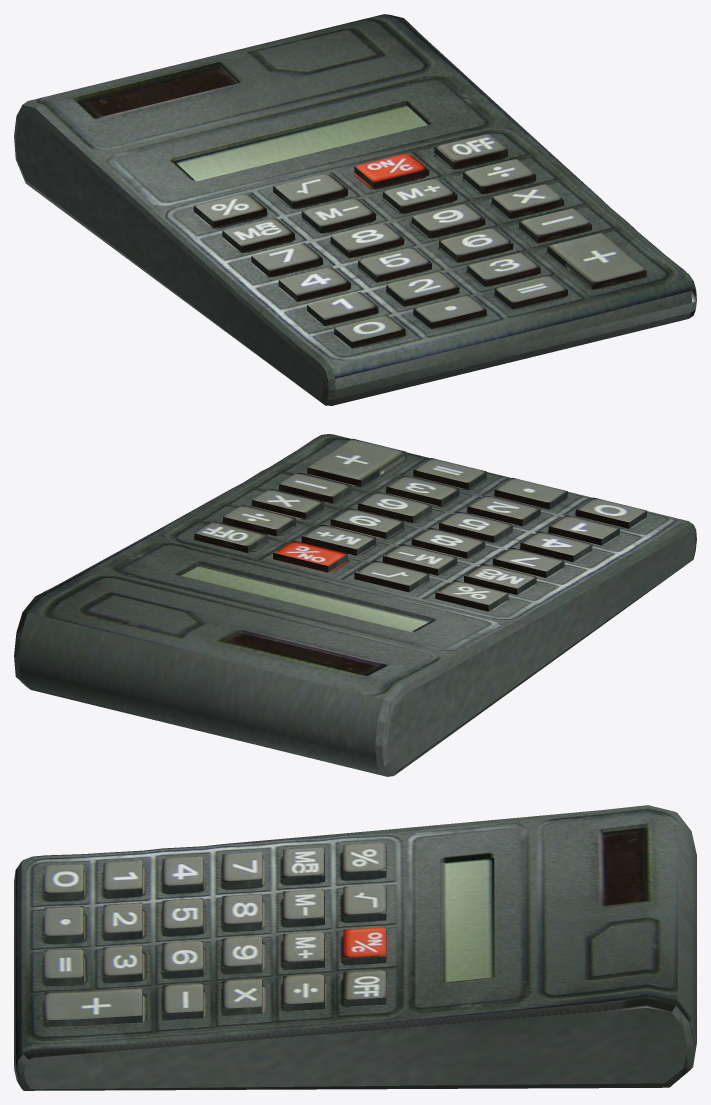
File: 01B_Electric_0_018.FBX
3 renders of one model, top to bottom at view 1: azimuth 30°, elevation 25°; view 2: azimuth 150°, elevation 25°; view 3: azimuth 270°, elevation 25°, orthographic. The views are drawn at different scales.
Parts seen in each view (by area): view 1: B_Electric_0_018; view 2: B_Electric_0_018; view 3: B_Electric_0_018.
Part boxes in pixels (box(x1,y1,x2,y2)): B_Electric_0_018: box(14, 14, 696, 405); B_Electric_0_018: box(14, 434, 696, 776); B_Electric_0_018: box(14, 805, 696, 1090).
Bounding box in the file's own units: 5.04 × 1.13 × 7.44.
Materials: 2 (2 with a texture image).
